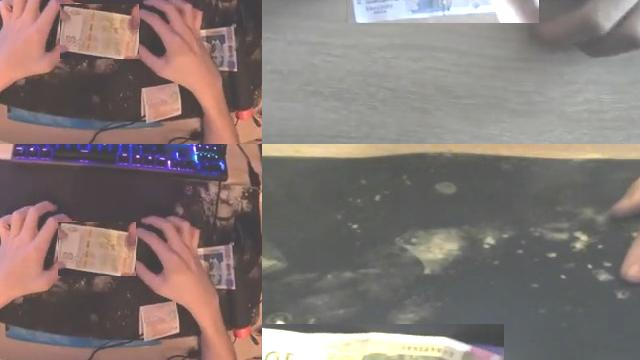10leva: (262, 324, 503, 360)
50leva: (60, 4, 139, 59), (58, 222, 136, 276)
